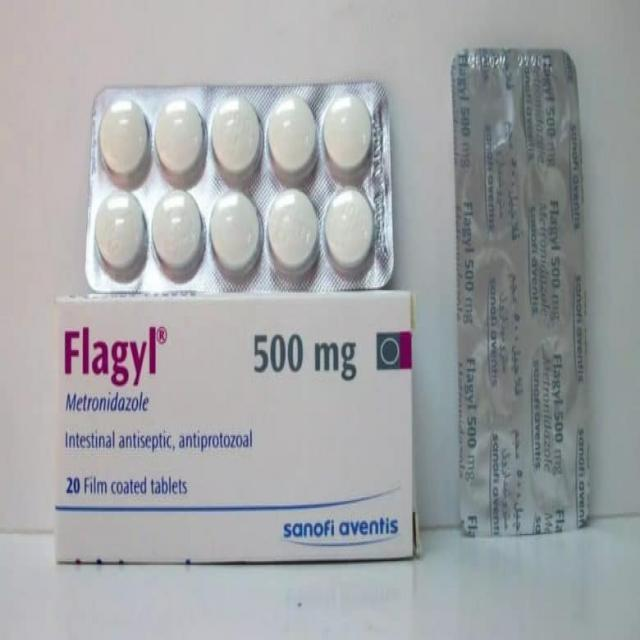drug-name: (59, 323, 172, 388)
